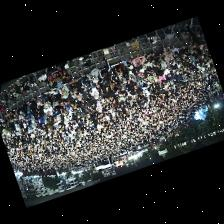person: (98, 54, 110, 78), (42, 95, 52, 115), (60, 88, 71, 106), (67, 78, 80, 93), (131, 54, 144, 68), (85, 67, 97, 81), (46, 88, 60, 100), (144, 52, 157, 64), (23, 104, 30, 125), (52, 101, 60, 119), (58, 101, 68, 115), (114, 63, 124, 76), (57, 84, 67, 97), (90, 81, 97, 99), (33, 96, 42, 110), (80, 98, 89, 111), (109, 72, 118, 85), (80, 74, 89, 86), (73, 87, 82, 99), (80, 81, 89, 93), (171, 45, 179, 58), (145, 65, 155, 75), (91, 78, 101, 88), (163, 54, 173, 64), (116, 72, 125, 83), (100, 79, 109, 90), (130, 66, 140, 75), (122, 59, 132, 68), (142, 60, 151, 70), (127, 70, 135, 81), (178, 46, 188, 54), (80, 90, 86, 103), (159, 60, 166, 71), (157, 75, 165, 84), (162, 46, 171, 54), (0, 114, 7, 122), (56, 62, 64, 69), (187, 41, 192, 52), (139, 68, 144, 76)
